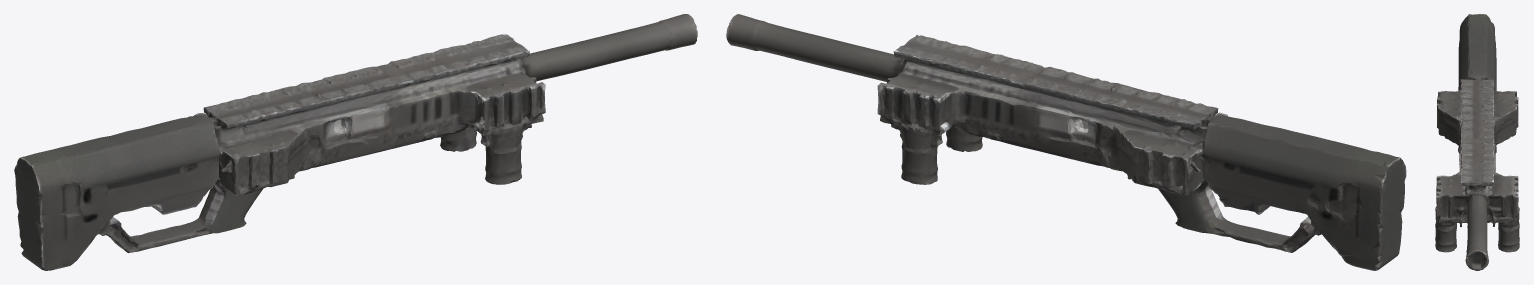
File: phantom_weapon_primary.glb
The picture shows the model from 3 angles, left to right: view 1: azimuth 30°, elevation 25°; view 2: azimuth 150°, elevation 25°; view 3: azimuth 270°, elevation 25°; orthographic projection. The views are drawn at different scales.
Visible parts, largest first — view 1: phantom_weapon_primary; view 2: phantom_weapon_primary; view 3: phantom_weapon_primary.
Part boxes in pixels (x1,y1,x2,y2): phantom_weapon_primary: (14, 14, 697, 270); phantom_weapon_primary: (726, 14, 1406, 270); phantom_weapon_primary: (1435, 14, 1519, 270).
Size of the model in its own units: 1.89 by 0.3067 by 0.2991.
Materials: 1 (1 with a texture image).
